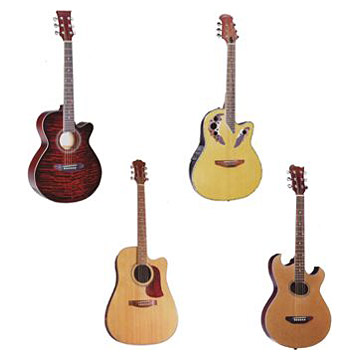guitar: (28, 10, 103, 203), (188, 13, 263, 201), (106, 160, 179, 347), (262, 165, 332, 350)
